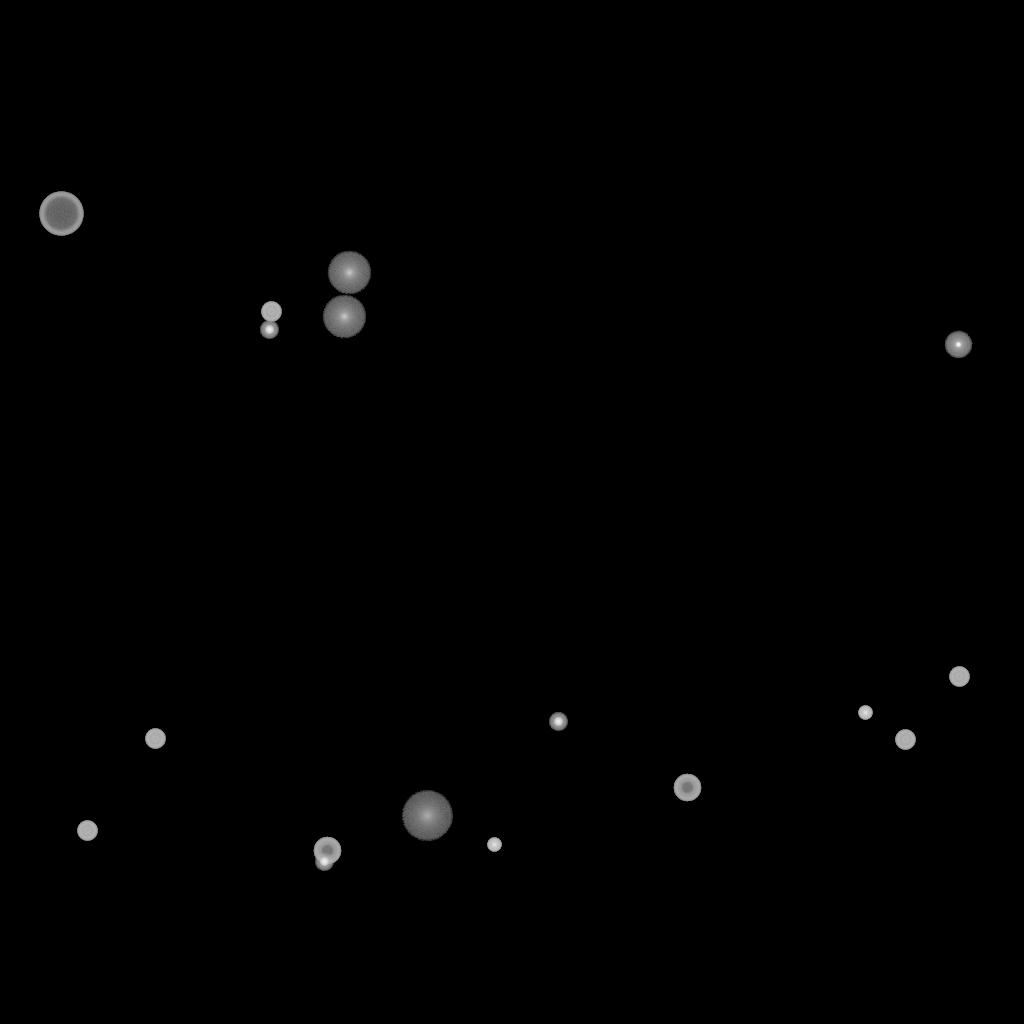depth:-10: (944, 331, 972, 359)
depth:-20: (315, 853, 333, 871), (260, 321, 278, 339), (549, 713, 567, 731)
depth:-30: (487, 838, 501, 852), (858, 706, 872, 720)
depth:-40: (949, 667, 969, 687), (261, 302, 281, 322), (145, 729, 165, 749), (895, 730, 915, 750), (77, 821, 97, 841)
depth:-50: (673, 774, 701, 802), (313, 837, 341, 865)
depth:-70: (39, 192, 83, 236)
depth:10: (322, 295, 366, 339), (327, 251, 371, 295)
depth:20: (401, 791, 453, 841)
